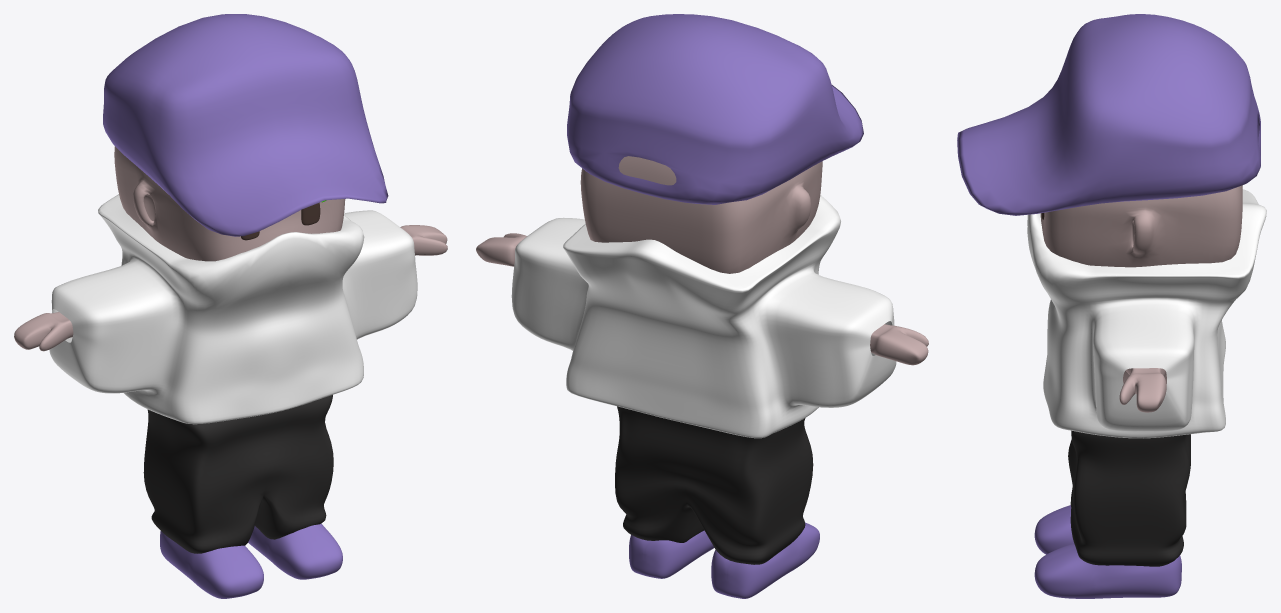
File: chica_futuristanormales (2).fbx
3 renders of one model, left to right at view 1: azimuth 30°, elevation 25°; view 2: azimuth 150°, elevation 25°; view 3: azimuth 270°, elevation 25°, orthographic. The views are drawn at different scales.
Parts seen in each view (by area): view 1: Abrigo, Gorra, Pantalones, Cuerpo, Zapatillas; view 2: Abrigo, Gorra, Pantalones, Cuerpo, Zapatillas; view 3: Gorra, Abrigo, Pantalones, Cuerpo, Zapatillas.
Part boxes in pixels (x1,y1,x2,y2): Abrigo: (49,194,417,424); Gorra: (103,14,388,236); Pantalones: (143,395,333,553); Cuerpo: (14,146,447,351); Zapatillas: (160,523,342,598); Abrigo: (511,195,896,438); Gorra: (567,14,863,204); Pantalones: (615,406,813,564); Cuerpo: (476,156,928,365); Zapatillas: (629,522,819,598); Gorra: (957,14,1260,215); Abrigo: (1027,189,1266,438); Pantalones: (1068,430,1190,566); Cuerpo: (1040,185,1242,412); Zapatillas: (1034,505,1181,598).
Bounding box in the file's own units: 202 × 239 × 124.
